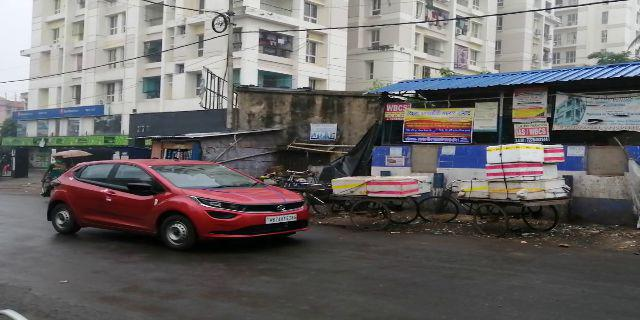Car: (48, 160, 312, 257)
